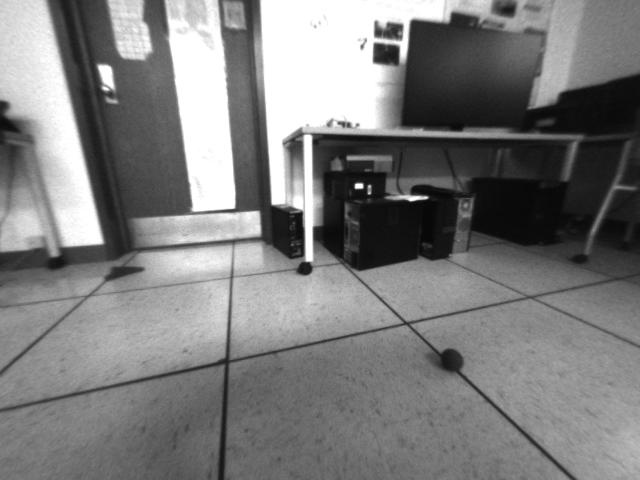dogtoy: (432, 338, 472, 377)
